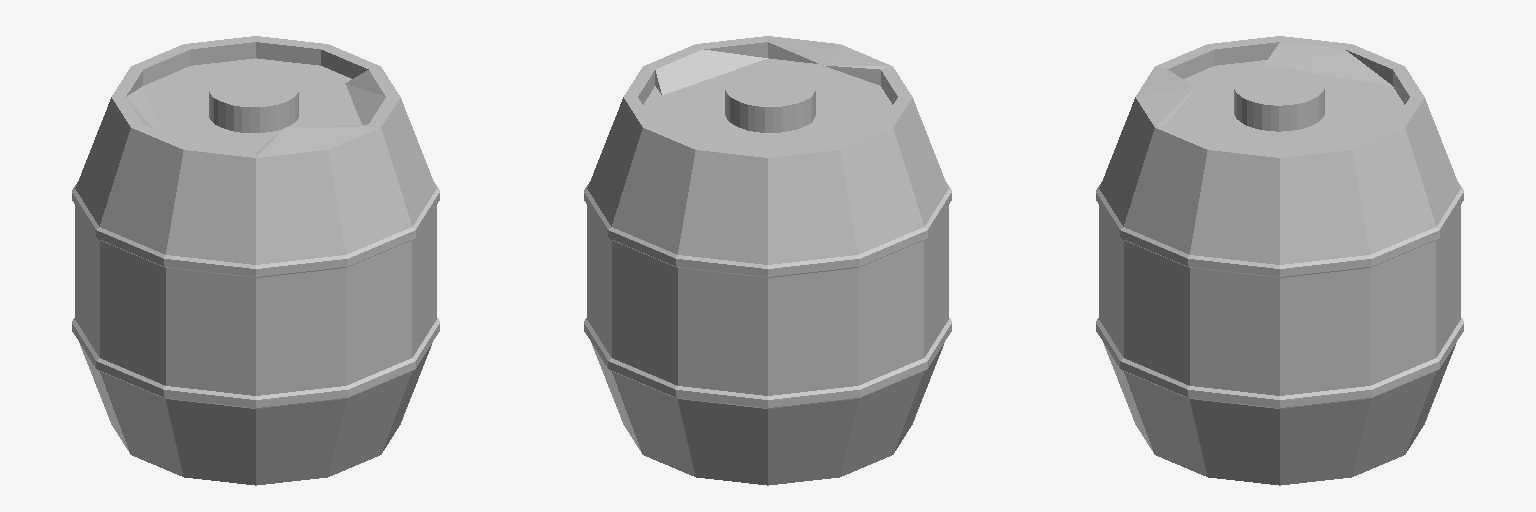
The model's file is barril_com_furo.obj.
3 renders of one model, left to right at view 1: azimuth 30°, elevation 25°; view 2: azimuth 150°, elevation 25°; view 3: azimuth 270°, elevation 25°, orthographic.
Parts seen in each view (by area): view 1: Cylinder; view 2: Cylinder; view 3: Cylinder.
Boxes of the visible parts, <box> form: Cylinder: <box>72,36,439,485</box>; Cylinder: <box>584,36,951,485</box>; Cylinder: <box>1096,36,1463,485</box>.
Bounding box in the file's own units: 2.04 × 2.06 × 2.04.